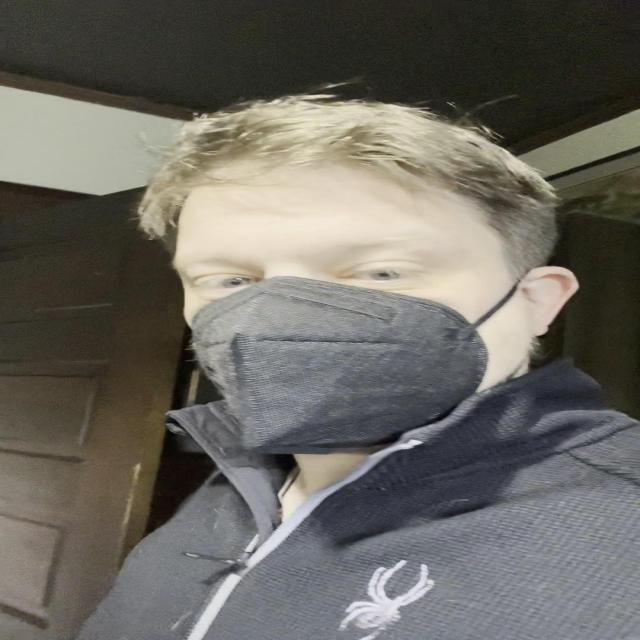no-helmet: (147, 154, 572, 491)
